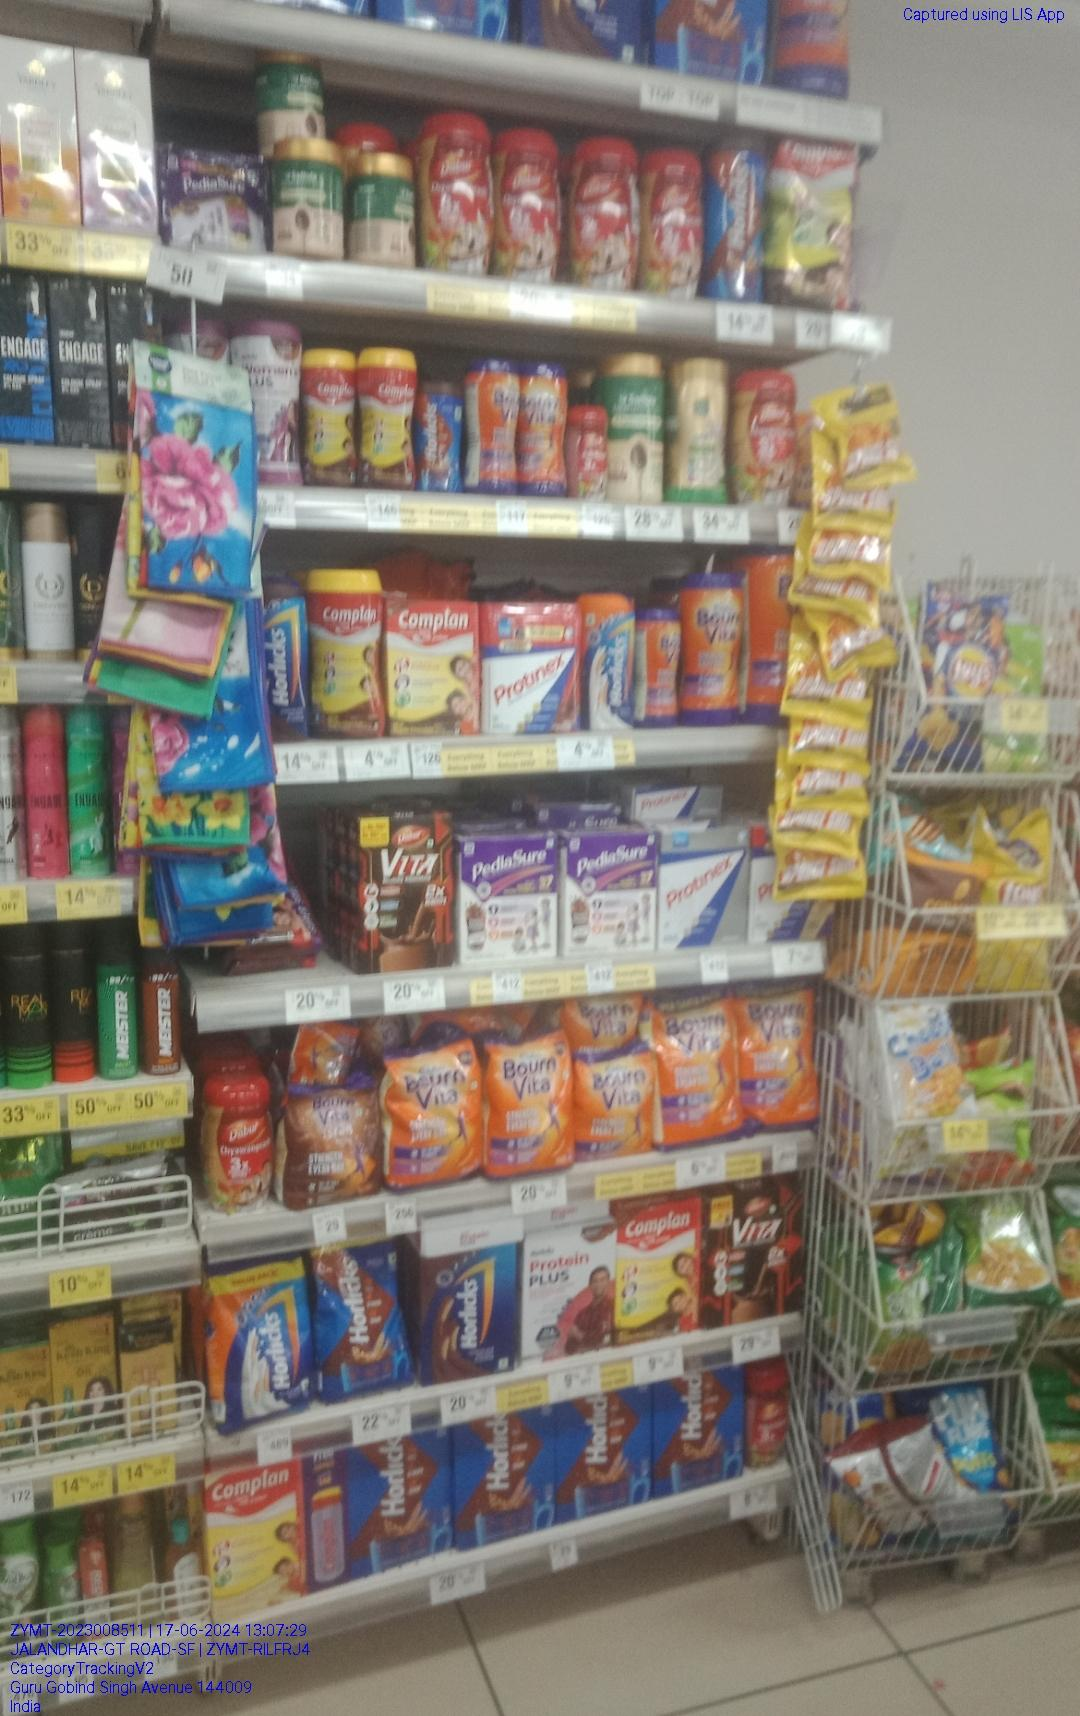COMPLAN_CHOCOLATE_500_GMS_JAR: (360, 346, 417, 485), (302, 347, 357, 490)
HORLICK_CHOCOLATE_200_G_JAR: (419, 381, 463, 493)
HORLICK_CHOCOLATE_500_G_PACK: (552, 1395, 651, 1517), (455, 1417, 551, 1542), (652, 1375, 748, 1491)
HORLICK_CLASSIC_MALT_500_G_JAR: (581, 594, 633, 732)
